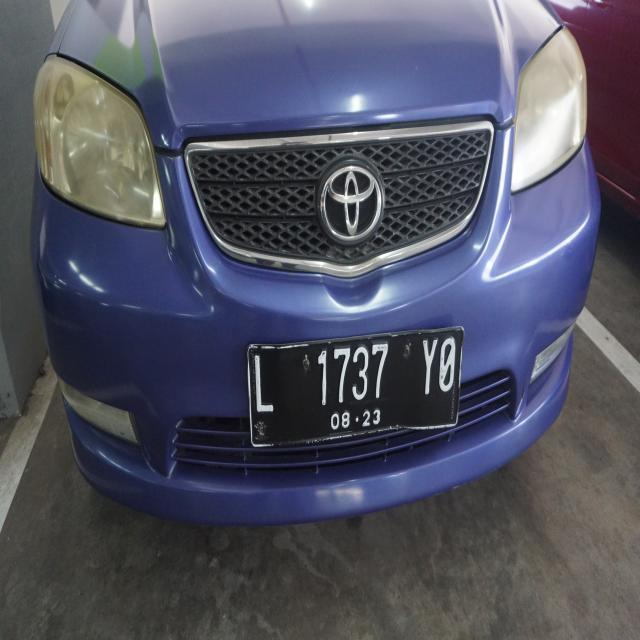1: (310, 342, 334, 413)
3: (349, 342, 372, 404)
7: (370, 341, 394, 408), (330, 346, 352, 410)
L: (248, 342, 281, 426)
O: (438, 336, 458, 397)
Y: (420, 341, 437, 402)
